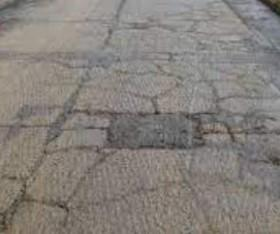alligator-crack: (10, 2, 280, 234)
